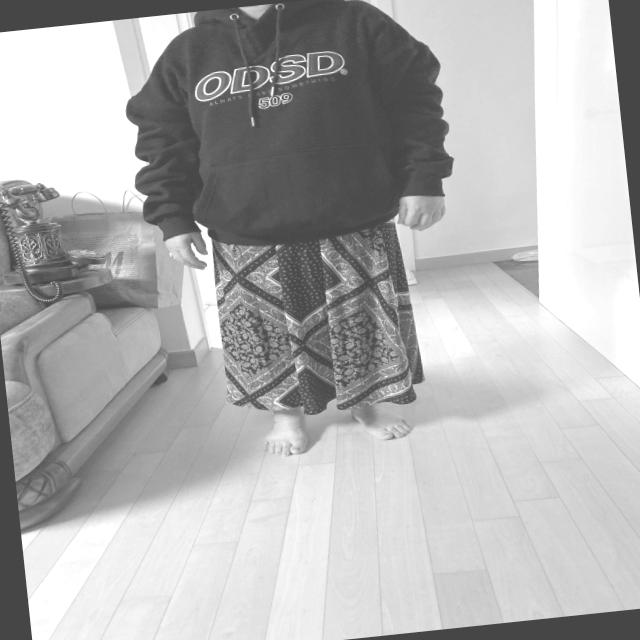hoodies: (114, 0, 459, 258)
trainingpants: (204, 210, 420, 422)
